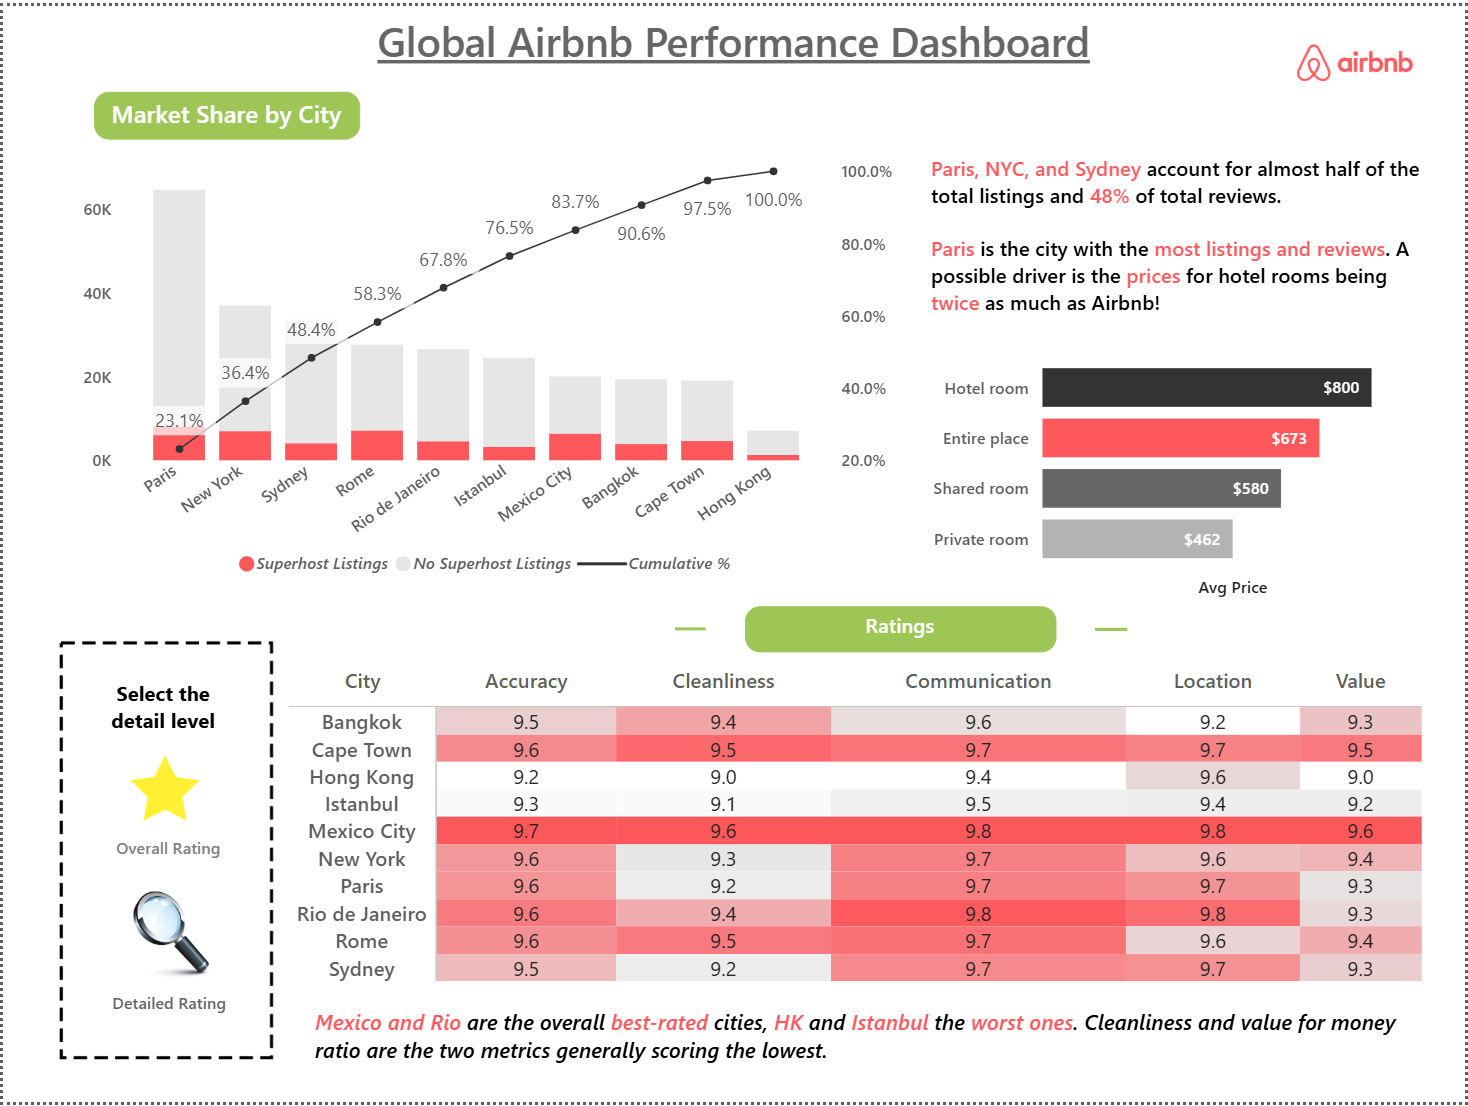

The dashboard page shown, as its layout file describes it:
{"tool":"powerbi","page":{"name":"Ratings","canvas":[960,720],"ordinal":1},"visuals":[{"type":"textbox","box":[215,0,530,49],"z":0},{"type":"image","box":[836.2,25,102.5,23.8],"z":1000},{"type":"textbox","box":[59.8,56.3,174.6,31.6],"z":2000},{"type":"lineStackedColumnComboChart","fields":{"Category":["Listings.city"],"Y":["Listings.No Superhost Listings","Listings.No Superhost Listings1"],"Y2":["Listings.Cumulative %"]},"box":[47.1,92,542.5,292],"z":3000},{"type":"barChart","fields":{"Category":["Listings.room_type"],"Y":["Listings.Avg Price"]},"box":[605,211.7,333.3,181.7],"z":4000},{"type":"textbox","box":[605,91.7,336.7,120],"z":5000},{"type":"image","box":[0,389.7,214.9,329.9],"z":6000},{"type":"textbox","box":[487.8,394.4,204.4,30],"z":7000},{"type":"shape","box":[441.1,390,20,38.9],"z":8000},{"type":"shape","box":[716.7,384.4,21.1,51.1],"z":9000},{"type":"textbox","box":[62.1,436.8,86.2,52.9],"z":11000},{"type":"pivotTable","fields":{"Rows":["Listings.city"],"Values":["Listings.Accuracy","Listings.Cleanliness","Listings.Communication","Listings.Location","Listings.Value"]},"box":[182.2,428.9,756.7,217.8],"z":11500},{"type":"group","id":"g1","title":"Group 1","box":[62.1,489.7,93.1,79.3],"z":13000},{"type":"group","id":"g2","title":"Group 2","box":[59.8,581.6,98.9,85.1],"z":14000},{"type":"textbox","box":[200,652.9,737.9,54],"z":14001},{"type":"image","box":[73.6,489.7,65.5,48.3],"z":30006,"group":"g1"},{"type":"image","box":[71.3,581.6,77,57.5],"z":30007,"group":"g2"},{"type":"textbox","box":[59.8,639.1,98.9,27.6],"z":30013,"group":"g2"},{"type":"textbox","box":[62.1,542.6,93.1,26.4],"z":30014,"group":"g1"}]}

Visuals, with their boxes in screenshot pixels (x1, y1, x2, y2), scaled from the page's 960x720 canvas onto the 1468x1106 screenshot:
textbox: rect(329, 0, 1139, 75)
image: rect(1279, 38, 1435, 75)
textbox: rect(91, 86, 358, 135)
lineStackedColumnComboChart - Listings.city x Listings.No Superhost Listings: rect(72, 141, 902, 590)
barChart - Listings.room_type x Listings.Avg Price: rect(925, 325, 1435, 604)
textbox: rect(925, 141, 1440, 325)
image: rect(0, 599, 329, 1105)
textbox: rect(746, 606, 1058, 652)
shape: rect(675, 599, 705, 659)
shape: rect(1096, 590, 1128, 669)
textbox: rect(95, 671, 227, 752)
pivotTable - Listings.city x Listings.Accuracy: rect(279, 659, 1436, 993)
"Group 1" group: rect(95, 752, 237, 874)
"Group 2" group: rect(91, 893, 243, 1024)
textbox: rect(306, 1003, 1434, 1086)
image: rect(113, 752, 213, 826)
image: rect(109, 893, 227, 982)
textbox: rect(91, 982, 243, 1024)
textbox: rect(95, 833, 237, 874)
